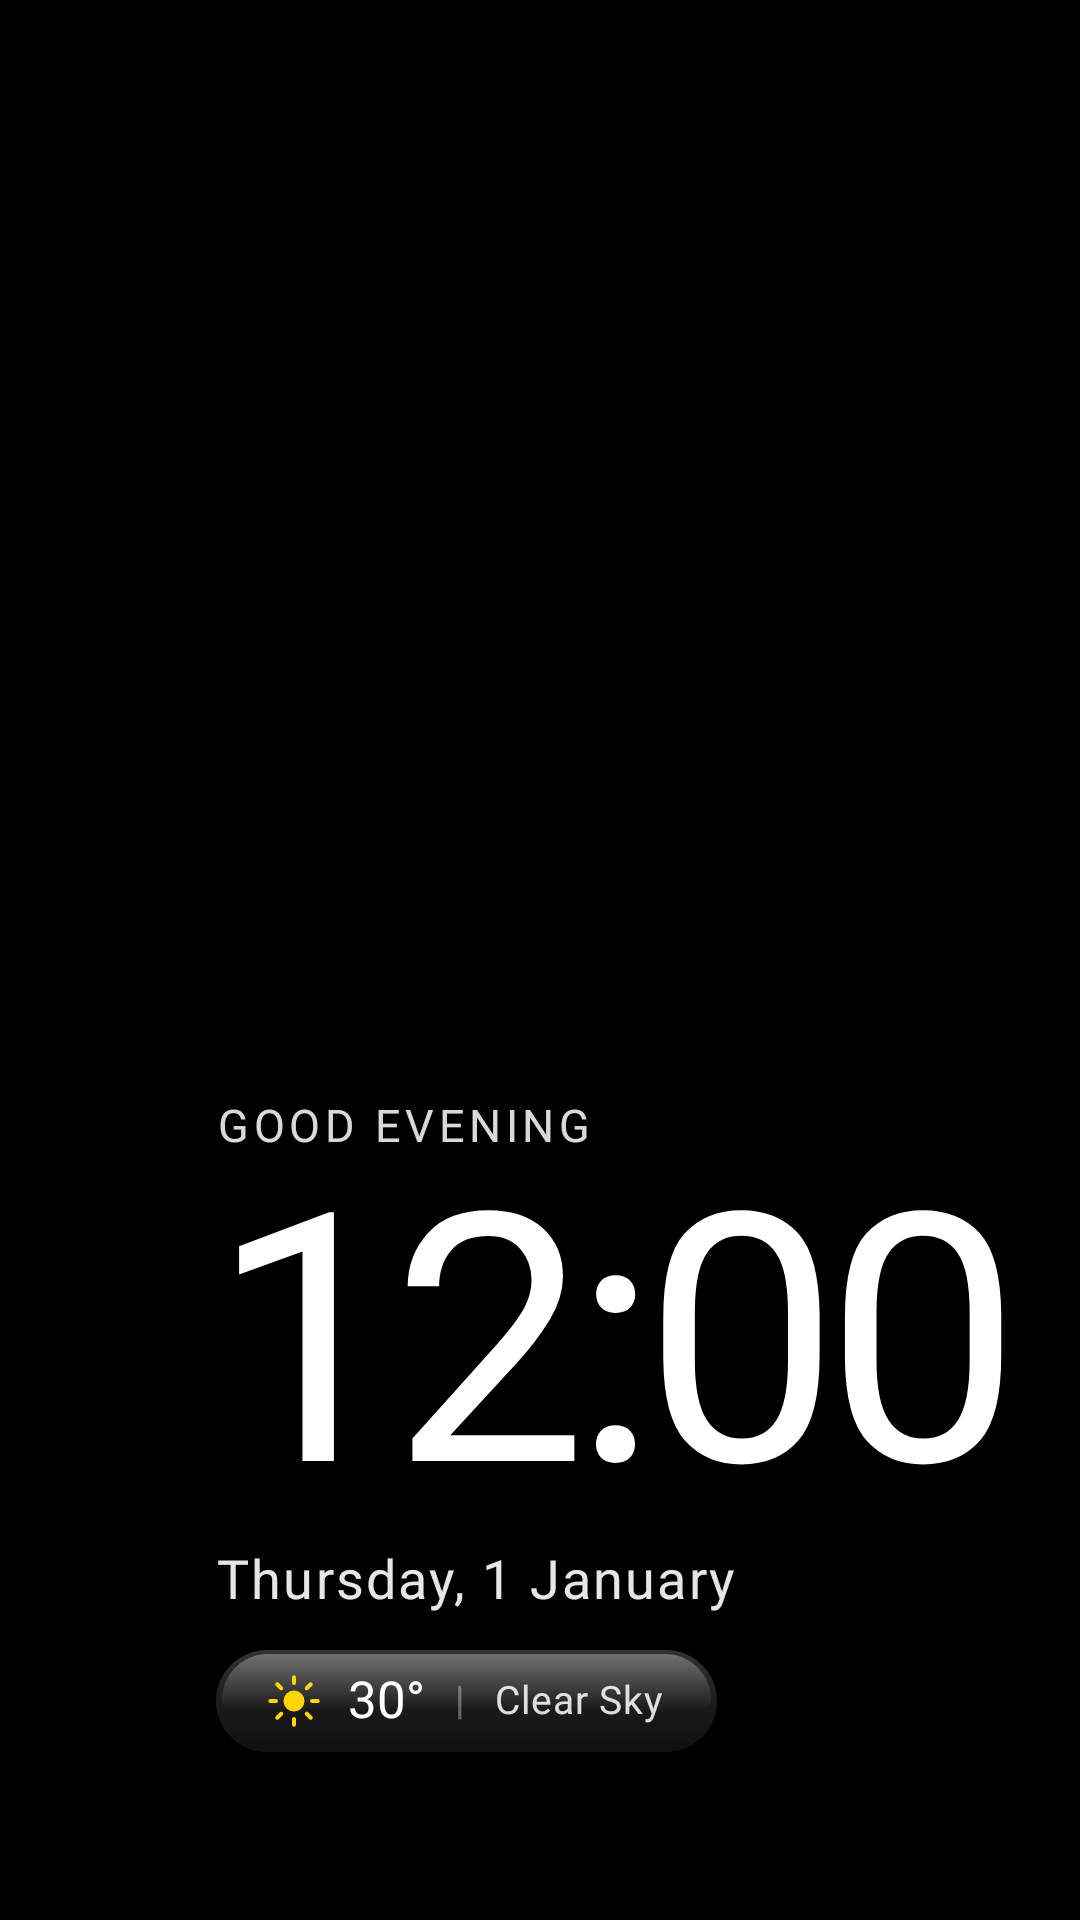

Screen size 1080px×1920px. Icon name, then its center in pixels as [x,y]:
weather sun: [294,1701]
